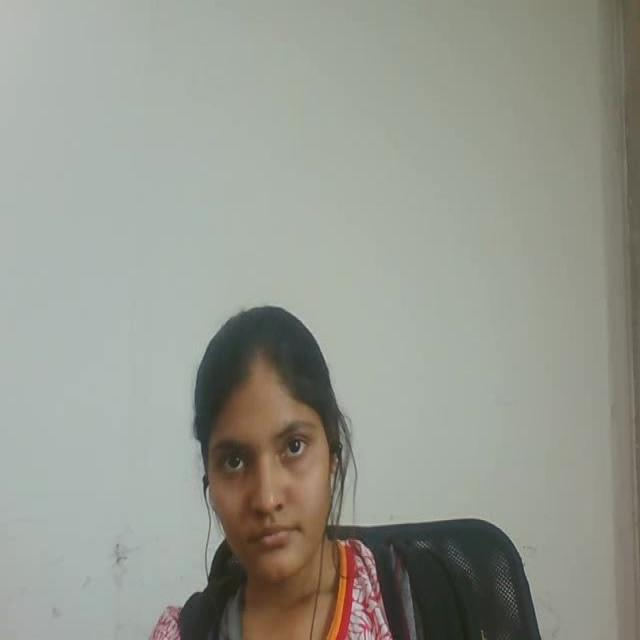Engaged: (161, 282, 375, 579)
